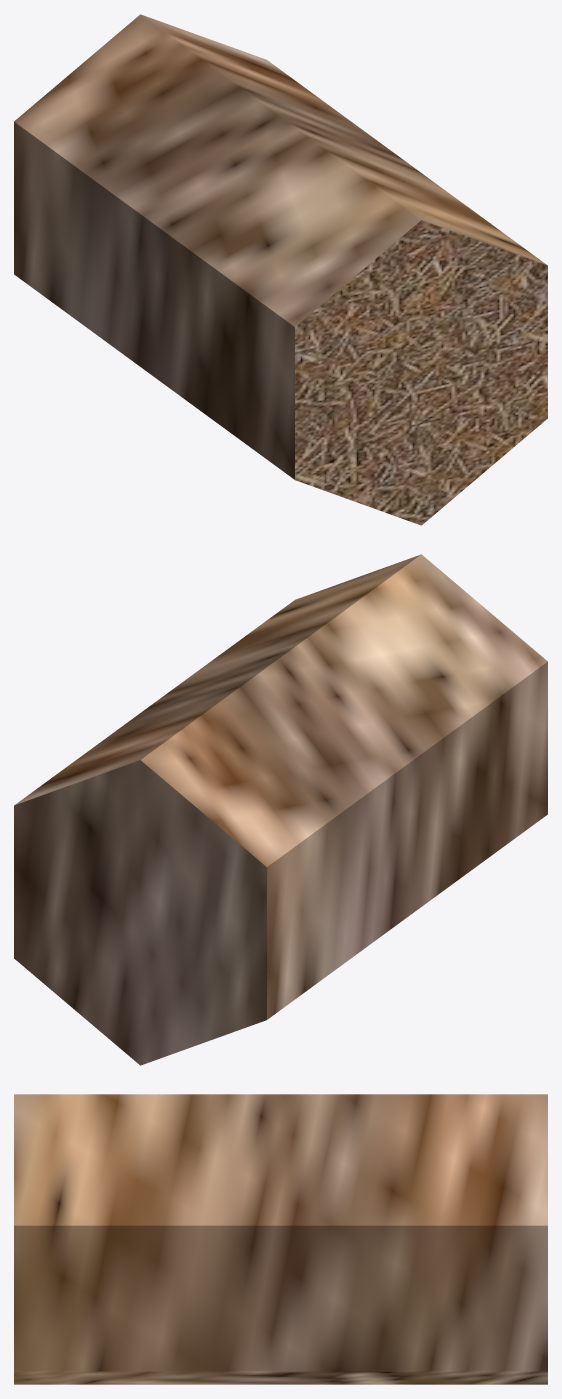
Rendered from shell.fbx.
The picture shows the model from 3 angles, top to bottom: view 1: azimuth 30°, elevation 25°; view 2: azimuth 150°, elevation 25°; view 3: azimuth 270°, elevation 25°; orthographic projection. The views are drawn at different scales.
Parts seen in each view (by area): view 1: Cylinder.001; view 2: Cylinder.001; view 3: Cylinder.001.
Part boxes in pixels (box(x1,y1,x2,y2)): Cylinder.001: box(14, 14, 547, 525); Cylinder.001: box(14, 554, 547, 1065); Cylinder.001: box(14, 1094, 547, 1384).
Size of the model in its own units: 5.2 by 6 by 10.
